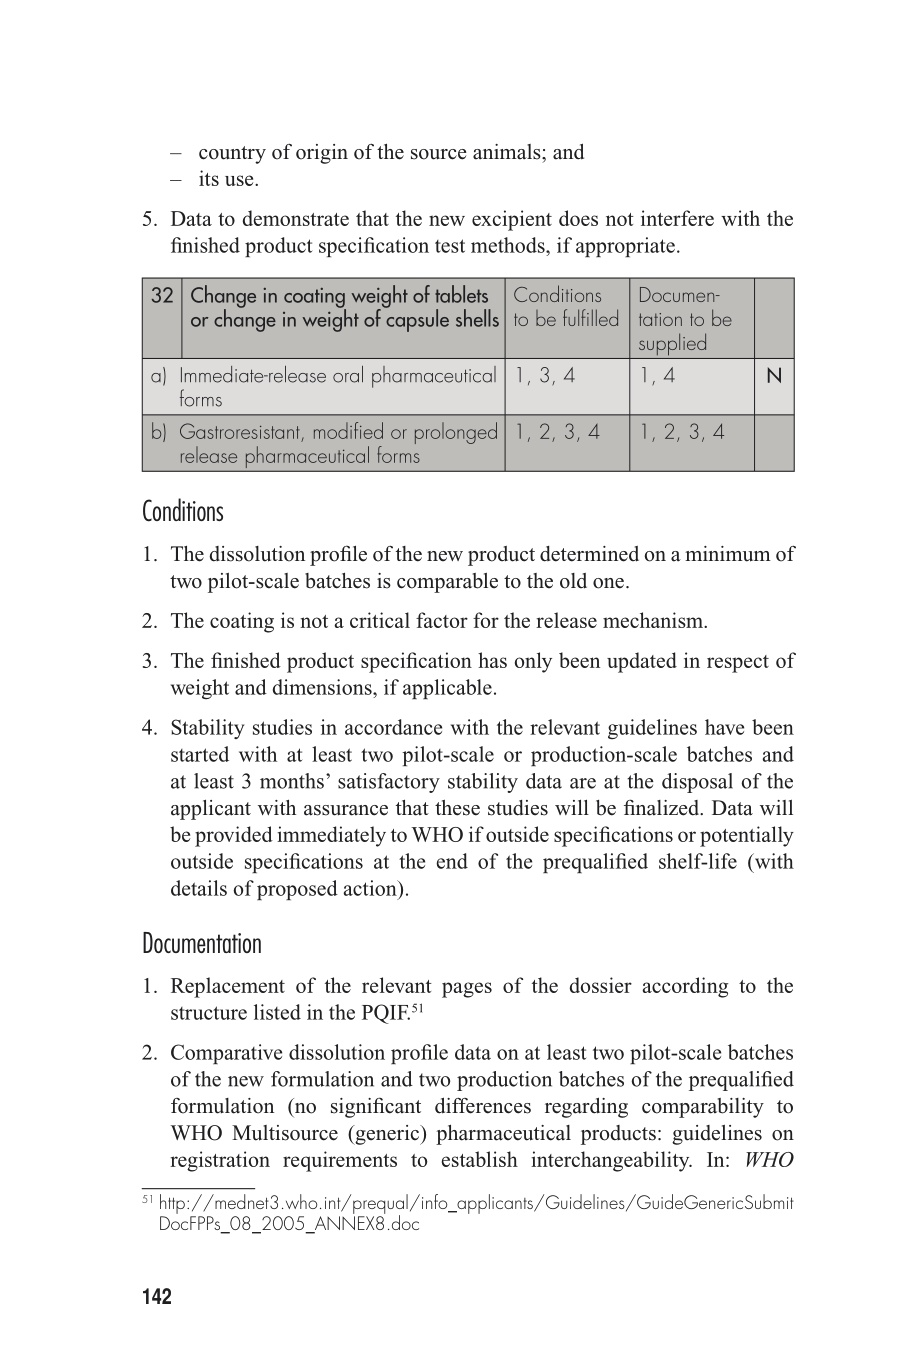merged_cells: (140, 275, 797, 473)
